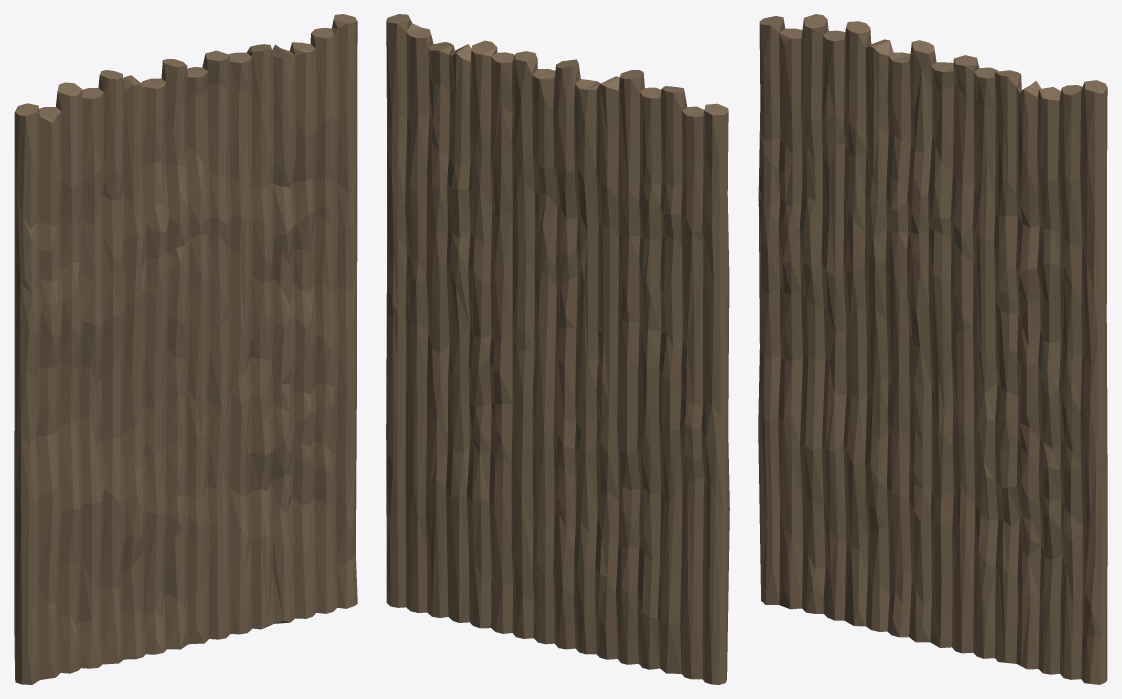
The model's file is siege_wall_b.FBX.
3 renders of one model, left to right at view 1: azimuth 30°, elevation 25°; view 2: azimuth 150°, elevation 25°; view 3: azimuth 330°, elevation 25°, orthographic.
Visible parts, largest first — view 1: siege_wall_b; view 2: siege_wall_b; view 3: siege_wall_b.
Part boxes in pixels (left/top/right/bottom): siege_wall_b: left=14, top=14, right=357, bottom=684; siege_wall_b: left=386, top=14, right=729, bottom=684; siege_wall_b: left=758, top=14, right=1107, bottom=684.
Size of the model in its own units: 1.99 by 3.29 by 0.1677.
